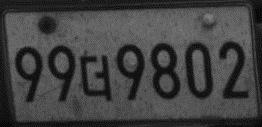0: (183, 42, 214, 99)
2: (217, 40, 250, 99)
8: (149, 42, 182, 100)
9: (46, 44, 77, 103), (116, 43, 145, 101), (14, 46, 44, 102)
더: (78, 53, 114, 103)
